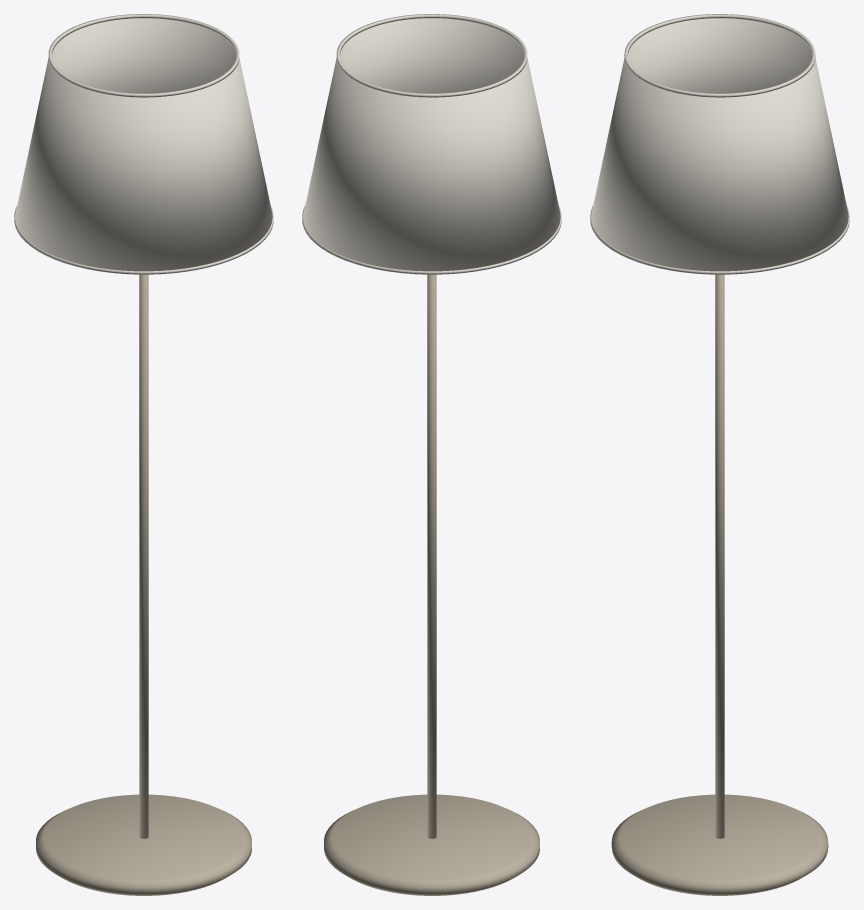
The model's file is floor_lamp.glb.
The picture shows the model from 3 angles, left to right: view 1: azimuth 30°, elevation 25°; view 2: azimuth 150°, elevation 25°; view 3: azimuth 270°, elevation 25°; orthographic projection.
Parts seen in each view (by area): view 1: 亚麻开口灯罩_2, 圆盘灯座_0, 纤细金属灯杆_1, 灯罩缝边_4, 灯罩缝边_3; view 2: 亚麻开口灯罩_2, 圆盘灯座_0, 纤细金属灯杆_1, 灯罩缝边_4, 灯罩缝边_3; view 3: 亚麻开口灯罩_2, 圆盘灯座_0, 纤细金属灯杆_1, 灯罩缝边_4, 灯罩缝边_3.
Boxes of the visible parts, left/top/right/bottom form: 亚麻开口灯罩_2: left=15, top=18, right=272, bottom=271; 圆盘灯座_0: left=36, top=794, right=251, bottom=895; 纤细金属灯杆_1: left=139, top=274, right=148, bottom=838; 灯罩缝边_4: left=48, top=14, right=239, bottom=97; 灯罩缝边_3: left=14, top=205, right=273, bottom=274; 亚麻开口灯罩_2: left=303, top=18, right=560, bottom=271; 圆盘灯座_0: left=324, top=794, right=539, bottom=895; 纤细金属灯杆_1: left=427, top=274, right=436, bottom=838; 灯罩缝边_4: left=336, top=14, right=527, bottom=97; 灯罩缝边_3: left=302, top=205, right=561, bottom=274; 亚麻开口灯罩_2: left=591, top=18, right=848, bottom=271; 圆盘灯座_0: left=611, top=794, right=828, bottom=895; 纤细金属灯杆_1: left=715, top=274, right=724, bottom=838; 灯罩缝边_4: left=624, top=14, right=815, bottom=97; 灯罩缝边_3: left=590, top=206, right=849, bottom=274.
Size of the model in its own units: 0.492 by 1.67 by 0.492.
